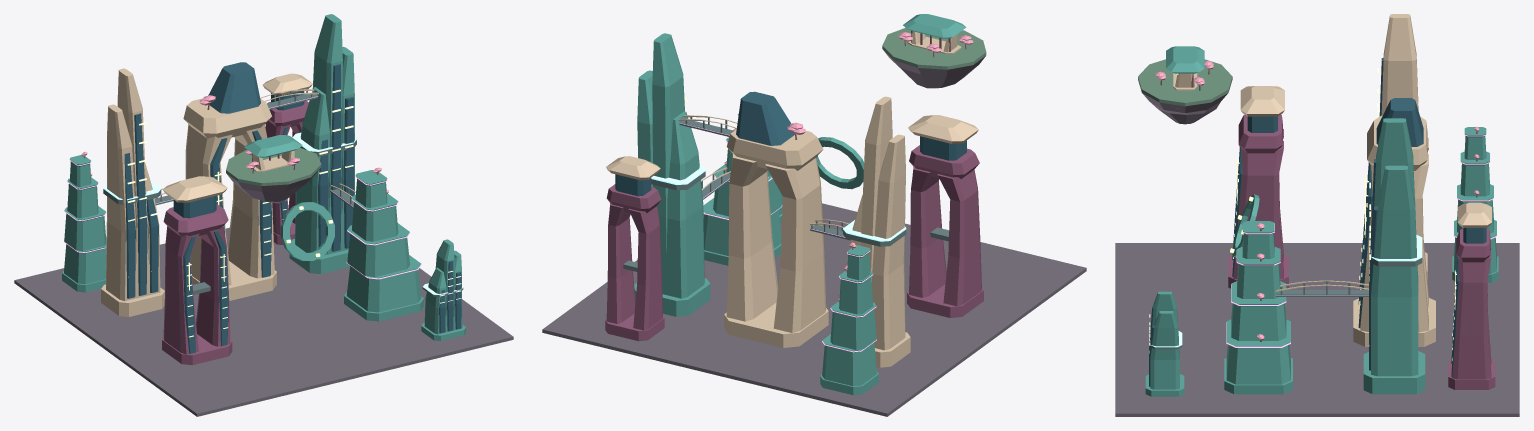
The model's file is district.glb.
3 views of the same model, side by side, from view 1: azimuth 30°, elevation 25°; view 2: azimuth 150°, elevation 25°; view 3: azimuth 270°, elevation 25° (orthographic). The views are drawn at different scales.
Parts seen in each view (by area): view 1: plaza, moonGate, lanternCourt, needleExchange, foldedFan, terraceOrchard, terraceOrchard.001, skyGarden, foldedFan.001, lanternCourt.001, orbit, span.001; view 2: plaza, moonGate, lanternCourt, foldedFan, needleExchange, lanternCourt.001, terraceOrchard.001, skyGarden, terraceOrchard, orbit, span.001; view 3: plaza, foldedFan, terraceOrchard, lanternCourt.001, lanternCourt, moonGate, skyGarden, foldedFan.001, terraceOrchard.001, needleExchange, span.002, orbit.
Boxes of the visible parts, left/top/right/bottom form: plaza: left=14, top=227, right=513, bottom=416; moonGate: left=183, top=62, right=276, bottom=300; lanternCourt: left=162, top=176, right=232, bottom=365; needleExchange: left=101, top=68, right=164, bottom=316; foldedFan: left=289, top=14, right=356, bottom=273; terraceOrchard: left=344, top=167, right=423, bottom=321; terraceOrchard.001: left=62, top=151, right=106, bottom=292; skyGarden: left=226, top=135, right=321, bottom=203; foldedFan.001: left=421, top=239, right=465, bottom=340; lanternCourt.001: left=263, top=73, right=312, bottom=245; orbit: left=281, top=202, right=334, bottom=260; span.001: left=260, top=89, right=318, bottom=109; plaza: left=542, top=203, right=1086, bottom=416; moonGate: left=724, top=91, right=828, bottom=347; lanternCourt: left=907, top=115, right=983, bottom=317; foldedFan: left=634, top=33, right=710, bottom=316; needleExchange: left=843, top=96, right=910, bottom=367; lanternCourt.001: left=605, top=156, right=664, bottom=341; terraceOrchard.001: left=820, top=242, right=878, bottom=395; skyGarden: left=882, top=14, right=986, bottom=88; terraceOrchard: left=703, top=113, right=782, bottom=265; orbit: left=816, top=137, right=863, bottom=189; span.001: left=678, top=115, right=737, bottom=136; plaza: left=1115, top=243, right=1519, bottom=416; foldedFan: left=1363, top=118, right=1425, bottom=394; terraceOrchard: left=1224, top=221, right=1292, bottom=394; lanternCourt.001: left=1448, top=202, right=1495, bottom=389; lanternCourt: left=1228, top=86, right=1288, bottom=288; moonGate: left=1353, top=98, right=1435, bottom=346; skyGarden: left=1138, top=46, right=1232, bottom=124; foldedFan.001: left=1145, top=291, right=1184, bottom=396; terraceOrchard.001: left=1452, top=126, right=1498, bottom=282; needleExchange: left=1377, top=14, right=1427, bottom=280; span.002: left=1275, top=280, right=1368, bottom=296; orbit: left=1230, top=194, right=1259, bottom=257.
Size of the model in its own units: 220 by 161 by 220.
